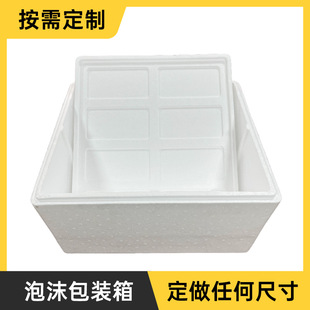泡沫箱: (33, 57, 278, 253)
